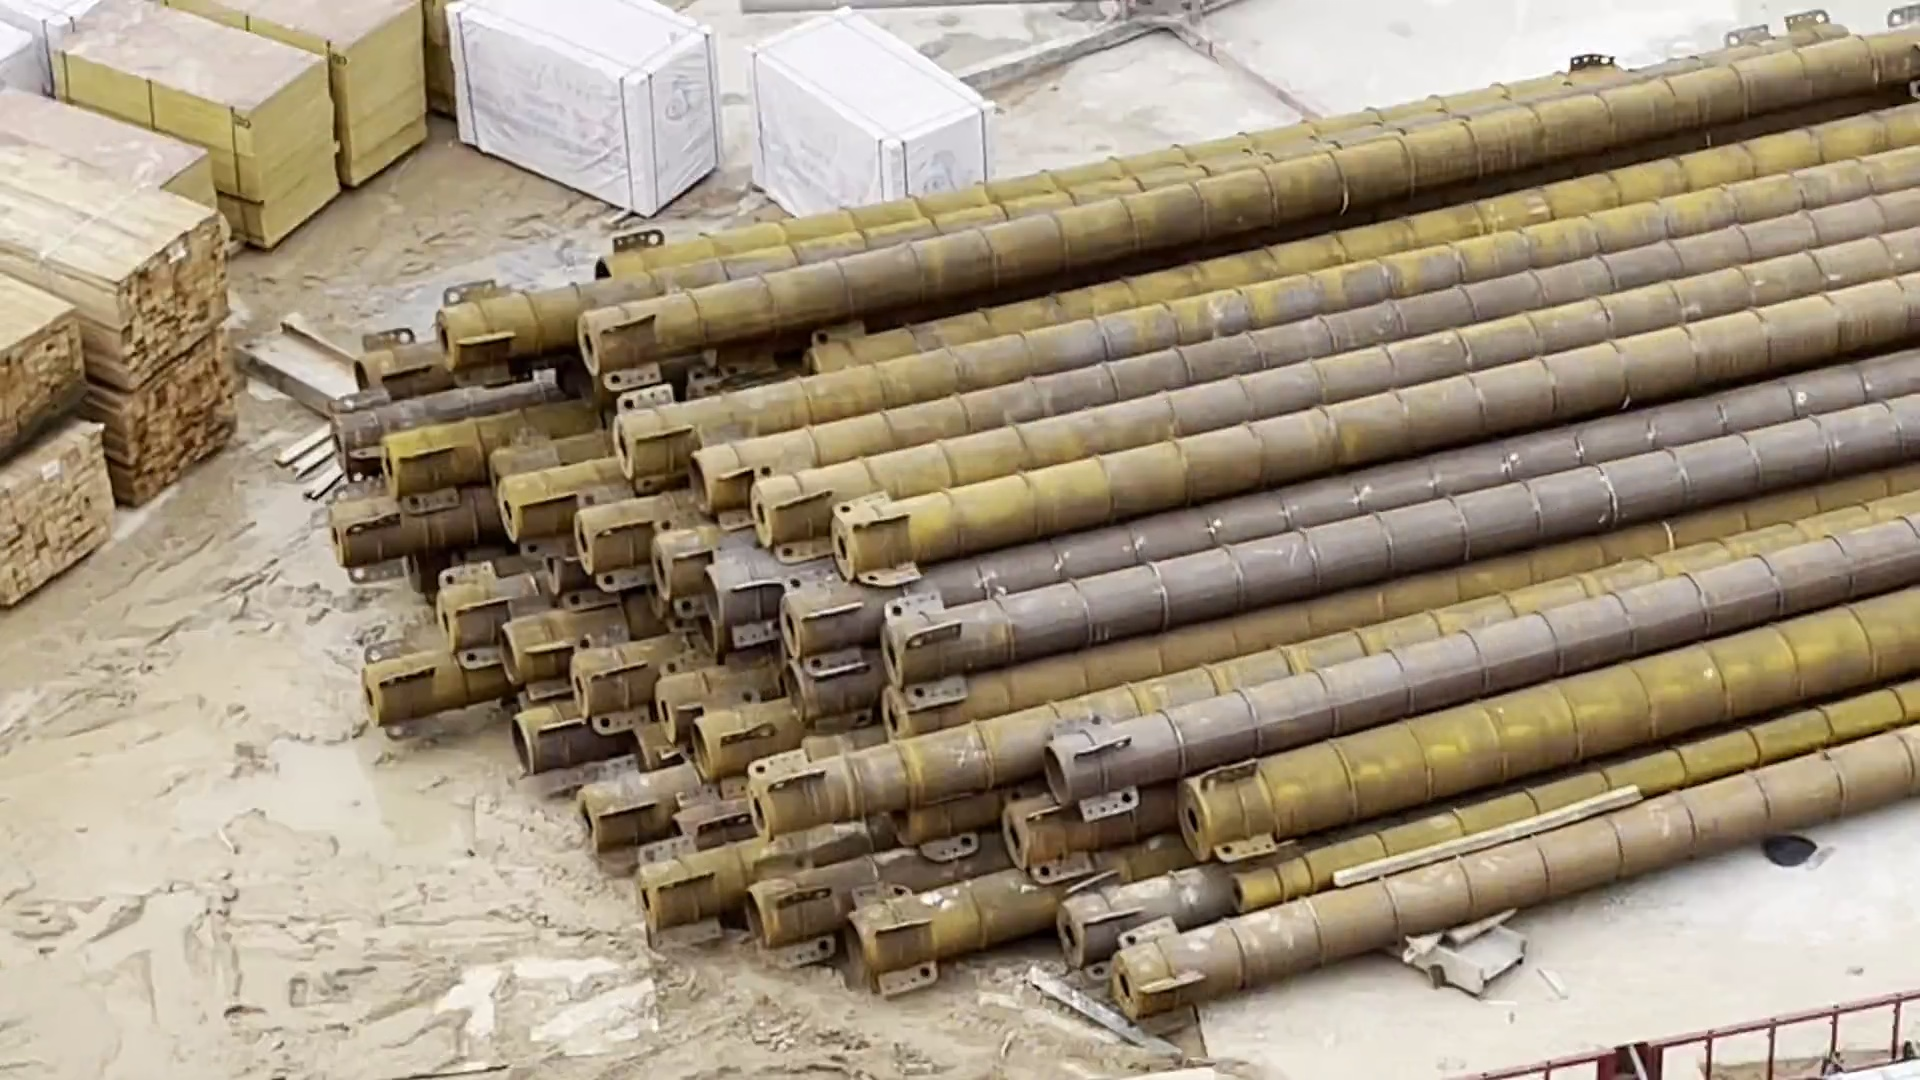board: (55, 1, 429, 249)
wood: (1, 146, 227, 611)
